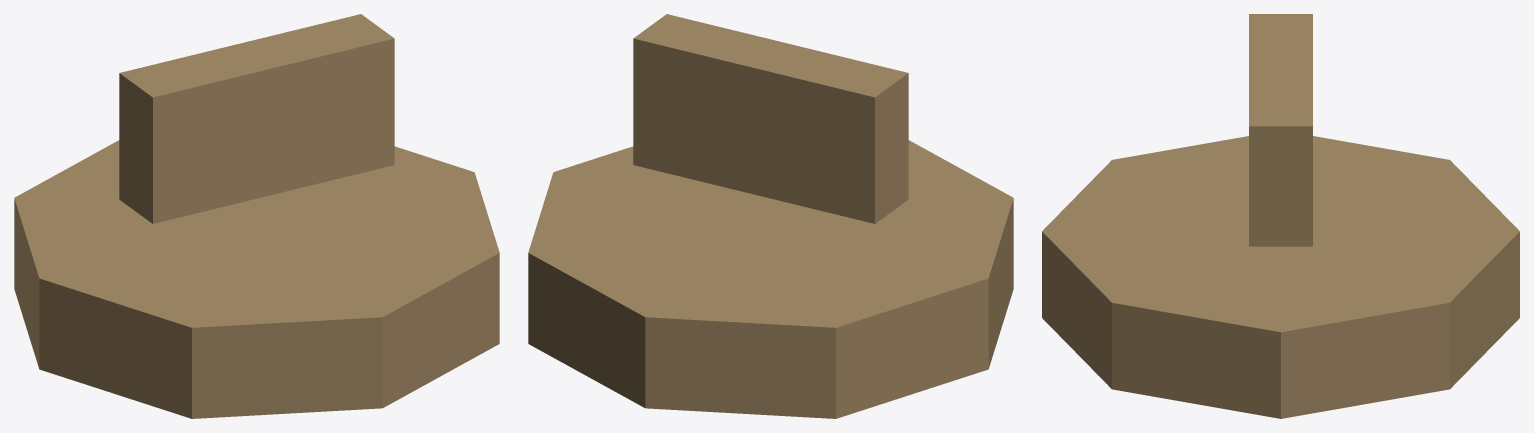
Rendered from MemoryCollectible.obj.
The picture shows the model from 3 angles, left to right: view 1: azimuth 30°, elevation 25°; view 2: azimuth 150°, elevation 25°; view 3: azimuth 270°, elevation 25°; orthographic projection. The views are drawn at different scales.
Parts seen in each view (by area): view 1: MemoryCollectible; view 2: MemoryCollectible; view 3: MemoryCollectible.
Part boxes in pixels (bbox=[...]): MemoryCollectible: bbox=[14, 14, 499, 418]; MemoryCollectible: bbox=[528, 14, 1013, 418]; MemoryCollectible: bbox=[1042, 14, 1519, 418].
Size of the model in its own units: 0.9 by 0.515 by 0.9.
